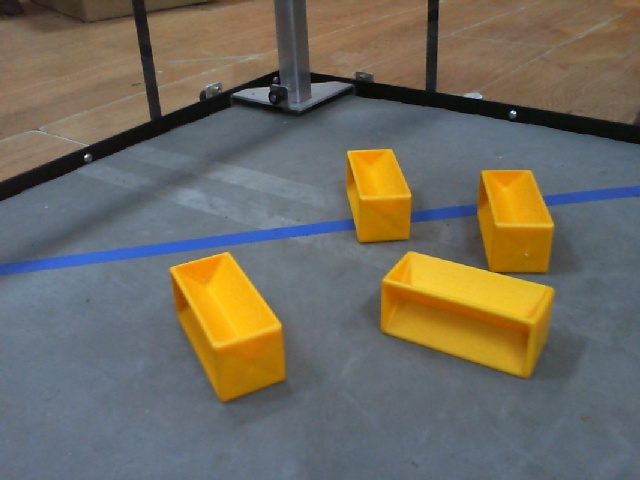YellowSample: (372, 249, 558, 375), (164, 248, 298, 407), (472, 163, 556, 275), (337, 141, 415, 249)
